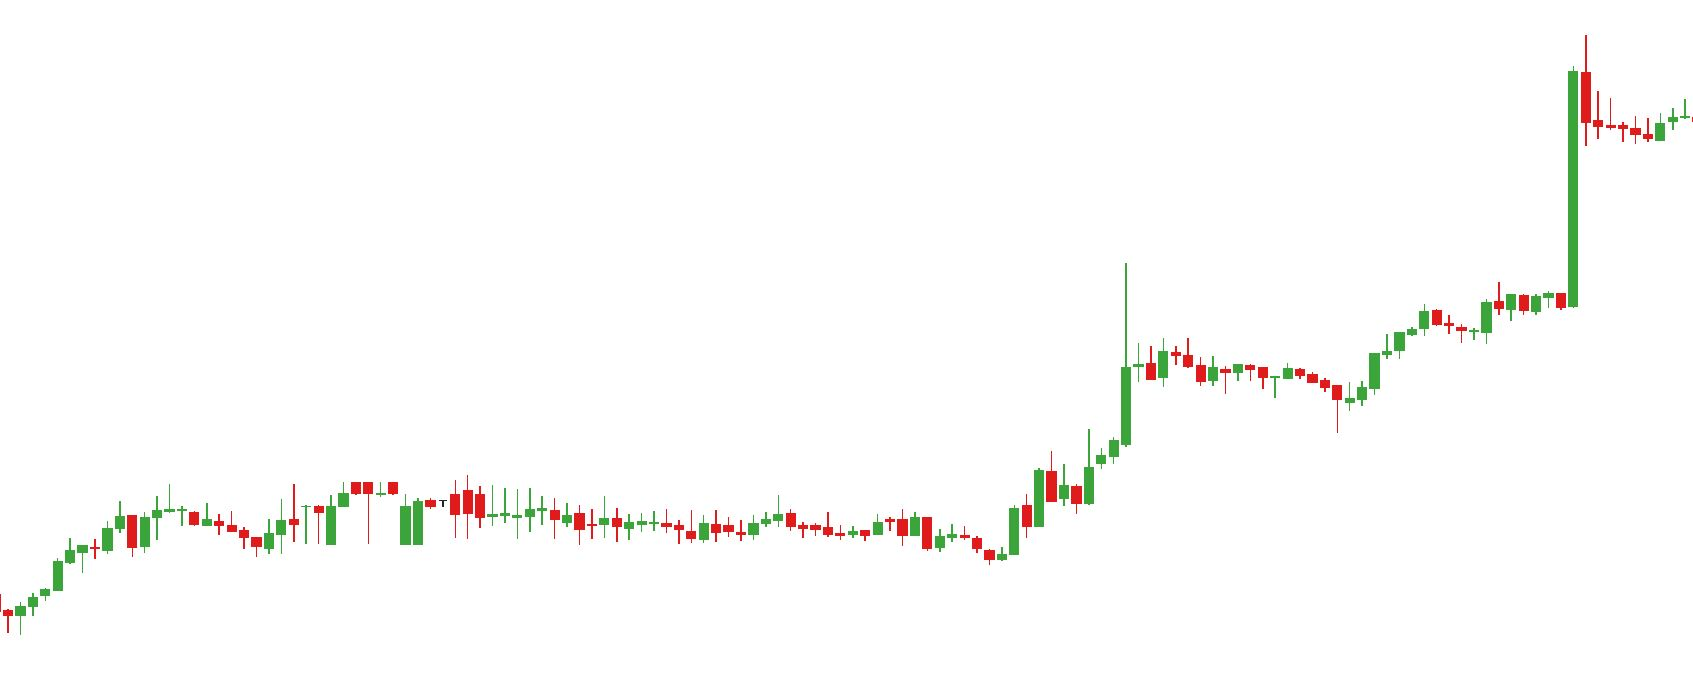buy: (921, 527, 1020, 567)
